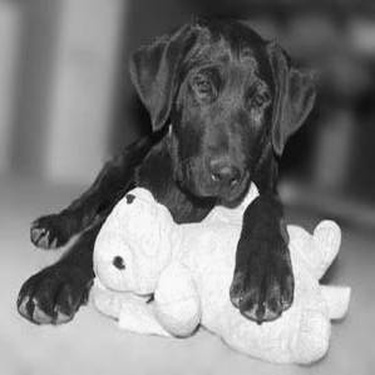dog: (16, 10, 321, 331), (89, 177, 355, 365)
